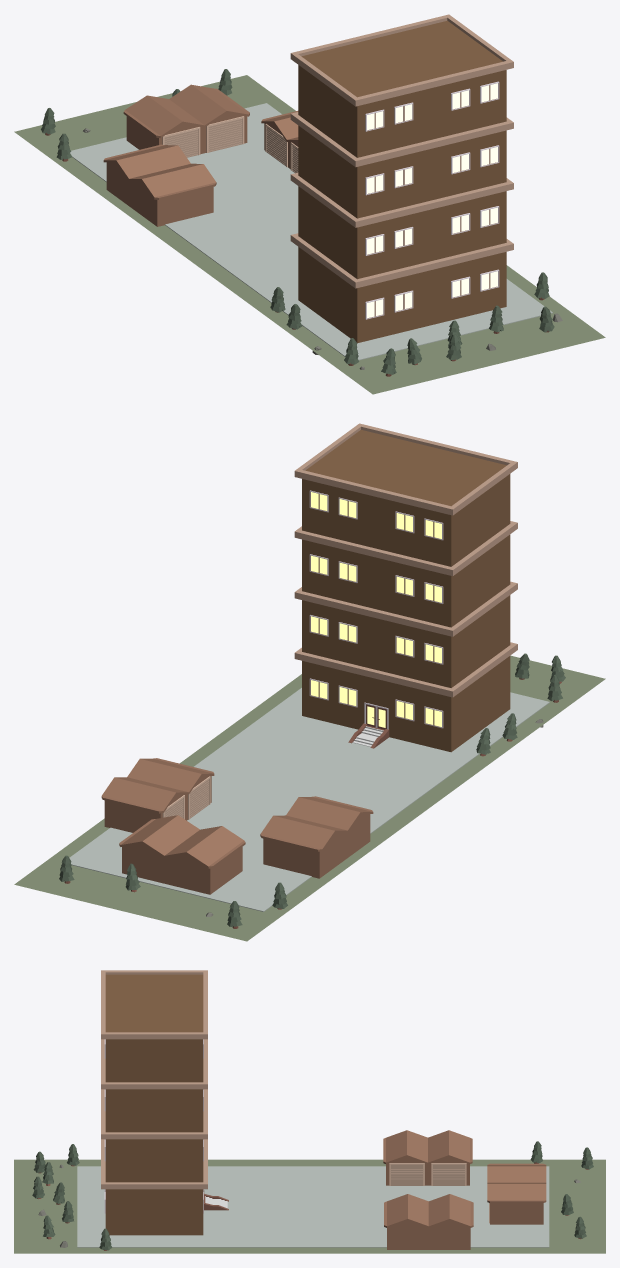
File: building3x1.glb
3 renders of one model, top to bottom at view 1: azimuth 30°, elevation 25°; view 2: azimuth 150°, elevation 25°; view 3: azimuth 270°, elevation 25°, orthographic. The views are drawn at different scales.
Parts seen in each view (by area): view 1: Building, Plane.001, Plane.005, GaragesDouble.001, GaragesDouble.002, window2.004, window2.003, window2.001, window2.002, GDOOR6.002, GaragesDouble, GDOOR5.002 (+1 smaller); view 2: Building, Plane.001, Plane.005, GaragesDouble.002, GaragesDouble.001, GaragesDouble, window2.003, window2.004, window2.001, window2.002; view 3: Building, Plane.001, Plane.005, GaragesDouble, GaragesDouble.002, GaragesDouble.001, GDOOR5.001, GDOOR6.001.
Part boxes in pixels (<box>): Building: <box>290,14,513,343</box>; Plane.001: <box>70,103,552,360</box>; Plane.005: <box>14,75,605,394</box>; GaragesDouble.001: <box>103,144,216,226</box>; GaragesDouble.002: <box>123,84,249,154</box>; window2.004: <box>365,81,499,131</box>; window2.003: <box>365,269,499,319</box>; window2.001: <box>365,206,499,255</box>; window2.002: <box>365,145,499,195</box>; GDOOR6.002: <box>206,116,244,152</box>; GaragesDouble: <box>261,111,298,168</box>; GDOOR5.002: <box>162,127,200,157</box>; Building: <box>294,423,517,752</box>; Plane.001: <box>69,688,549,911</box>; Plane.005: <box>14,655,605,941</box>; GaragesDouble.002: <box>119,815,245,894</box>; GaragesDouble.001: <box>260,796,373,878</box>; GaragesDouble: <box>101,758,214,832</box>; window2.003: <box>309,678,443,728</box>; window2.004: <box>309,490,443,540</box>; window2.001: <box>309,615,443,664</box>; window2.002: <box>309,554,443,603</box>; Building: <box>101,970,207,1235</box>; Plane.001: <box>77,1166,549,1247</box>; Plane.005: <box>14,1159,605,1253</box>; GaragesDouble: <box>384,1194,473,1249</box>; GaragesDouble.002: <box>487,1163,546,1224</box>; GaragesDouble.001: <box>383,1130,472,1185</box>; GDOOR5.001: <box>389,1163,424,1185</box>; GDOOR6.001: <box>431,1163,466,1185</box>.
Size of the model in its own units: 60 by 61.98 by 160.
